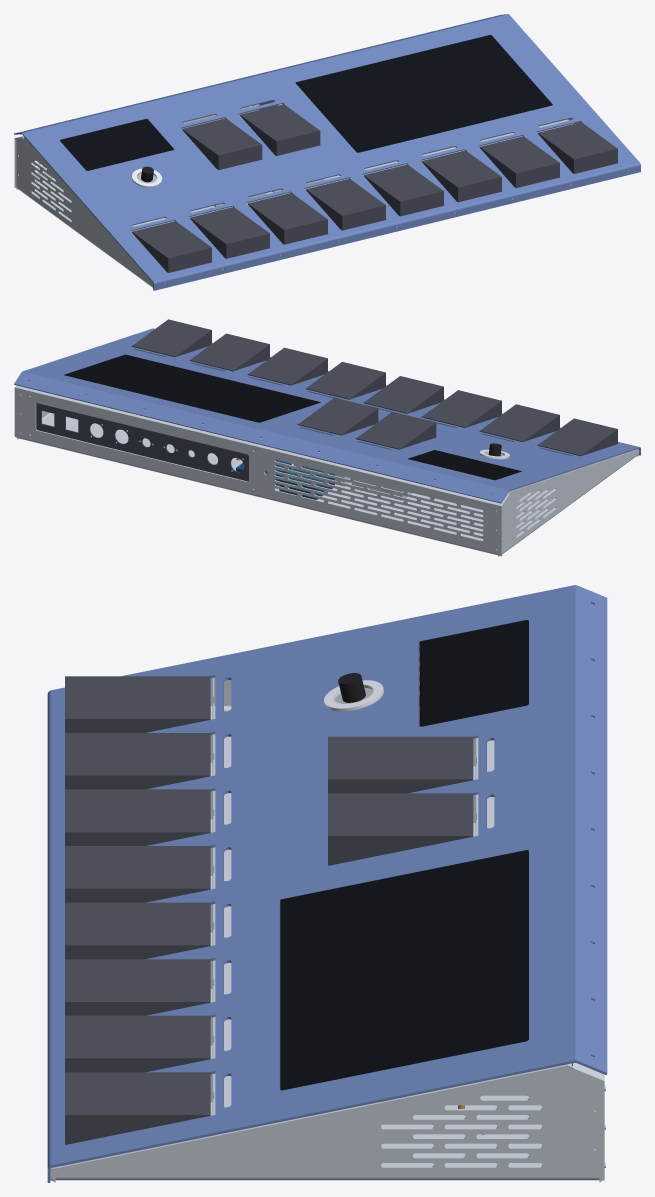
Rendered from segno_fromdxf.glb.
3 renders of one model, top to bottom at view 1: azimuth 30°, elevation 25°; view 2: azimuth 150°, elevation 25°; view 3: azimuth 270°, elevation 25°, orthographic. The views are drawn at different scales.
Visible parts, largest first — view 1: lid, lid_screen16, base, lid_screen7, pedal8, pedal9, pedal5, pedal4, pedal6, pedal7, pedal0, pedal1 (+2 smaller); view 2: base, lid, lid_screen16, rearpanel, pedal9, pedal8, pedal2, pedal0, pedal4, pedal7, pedal1, pedal6 (+4 smaller); view 3: lid, lid_screen16, base, lid_screen7, pedal7, pedal9, pedal6, pedal8, pedal4, pedal2, pedal0, pedal5 (+3 smaller).
Boxes of the visible parts, left/top/right/bottom form: lid: left=14, top=14, right=640, bottom=290; lid_screen16: left=295, top=35, right=552, bottom=152; base: left=14, top=104, right=629, bottom=288; lid_screen7: left=60, top=119, right=173, bottom=170; pedal8: left=182, top=118, right=262, bottom=170; pedal9: left=240, top=104, right=320, bottom=155; pedal5: left=421, top=150, right=501, bottom=202; pedal4: left=364, top=164, right=443, bottom=216; pedal6: left=479, top=136, right=559, bottom=187; pedal7: left=537, top=122, right=617, bottom=173; pedal0: left=132, top=221, right=211, bottom=272; pedal1: left=190, top=207, right=269, bottom=258; base: left=14, top=381, right=639, bottom=556; lid: left=14, top=328, right=640, bottom=503; lid_screen16: left=64, top=354, right=320, bottom=422; rearpanel: left=30, top=395, right=254, bottom=489; pedal9: left=298, top=397, right=378, bottom=435; pedal8: left=356, top=412, right=436, bottom=449; pedal2: left=421, top=390, right=501, bottom=427; pedal0: left=537, top=418, right=617, bottom=456; pedal4: left=306, top=362, right=385, bottom=399; pedal7: left=132, top=319, right=211, bottom=357; pedal1: left=479, top=404, right=559, bottom=441; pedal6: left=190, top=333, right=269, bottom=371; lid: left=47, top=585, right=607, bottom=1182; lid_screen16: left=280, top=850, right=528, bottom=1090; base: left=50, top=647, right=604, bottom=1182; lid_screen7: left=419, top=620, right=528, bottom=726; pedal7: left=65, top=1072, right=210, bottom=1144; pedal9: left=328, top=793, right=473, bottom=865; pedal6: left=65, top=1015, right=210, bottom=1072; pedal8: left=328, top=736, right=473, bottom=793; pedal4: left=65, top=902, right=210, bottom=959; pedal2: left=65, top=789, right=210, bottom=845; pedal0: left=65, top=676, right=210, bottom=732; pedal5: left=65, top=959, right=210, bottom=1015.
Bounding box in the file's own units: 850 × 102 × 423.
